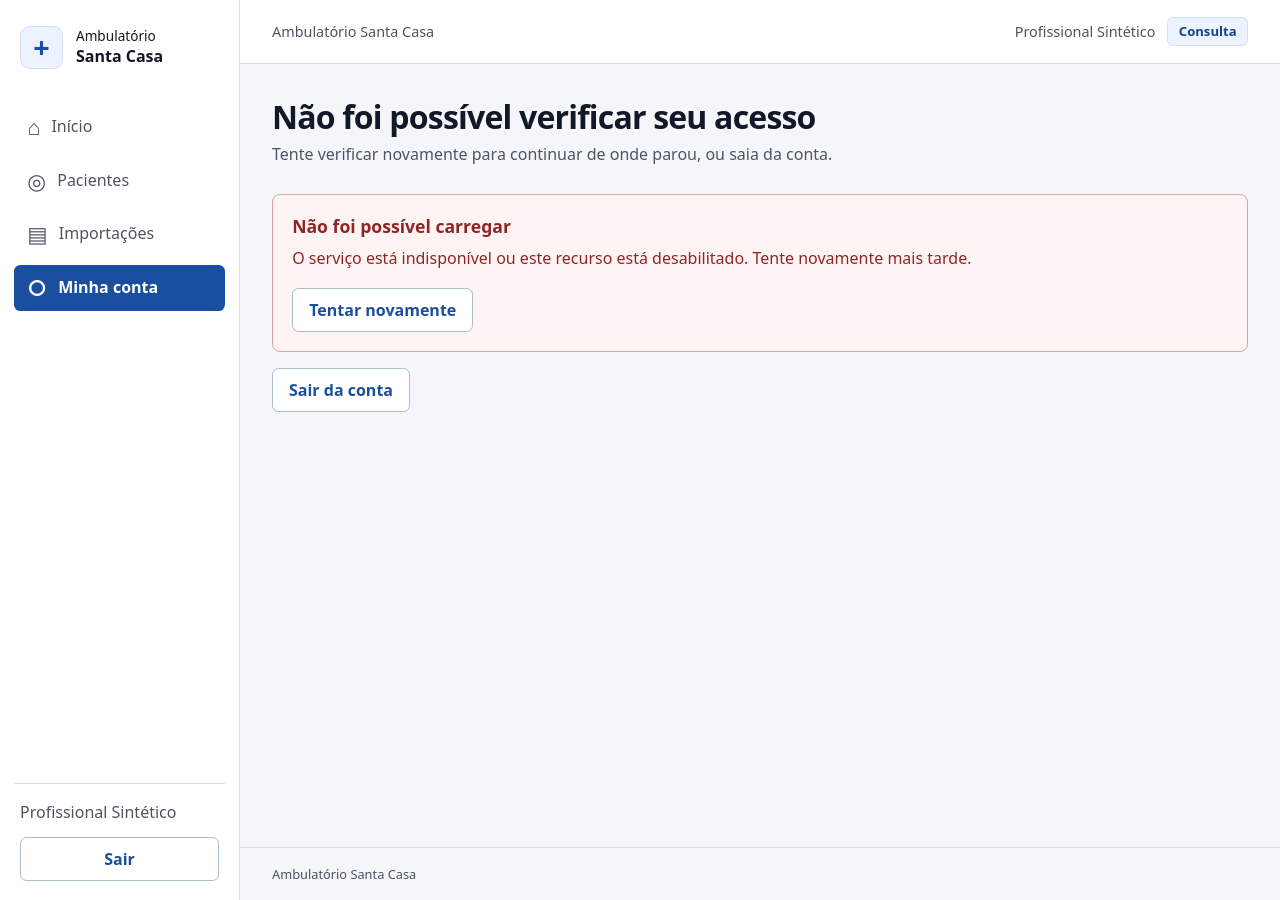
Scenario: 7D-U4.1 — conta, falha de identidade e página desconhecida › falha de identidade oculta a conta, foca orientação e recupera por leitura no mesmo destino
This screenshot has width=1280, height=900.
Expected: the text "9007199254740993" is not shown
Expected: the message does not show "Detalhe interno", [272, 194, 1248, 352]
Click the button "Tentar novamente": {"x": 383, "y": 310} [292, 288, 473, 332]
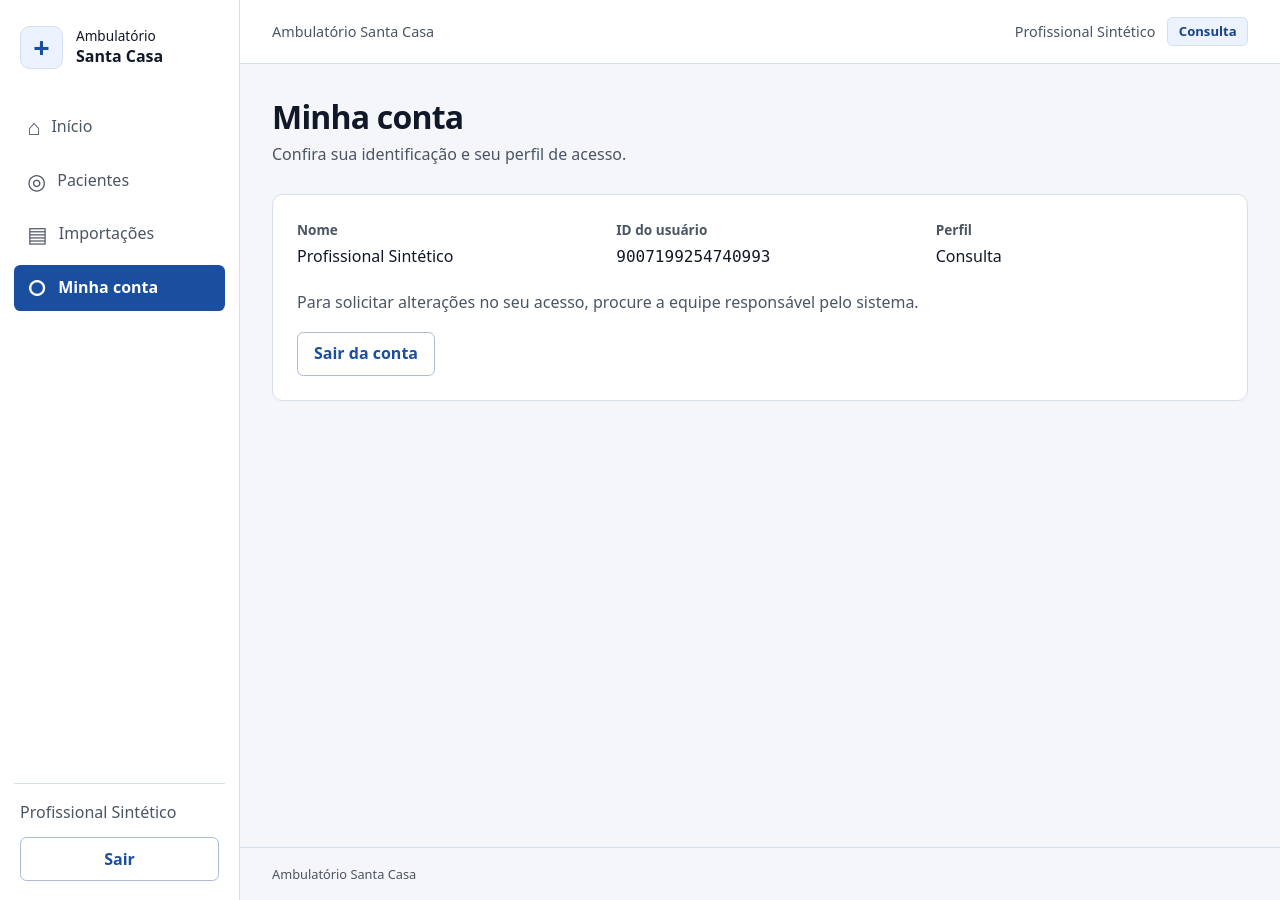
Now the heading "Minha conta" is shown, box [272, 95, 463, 138]
